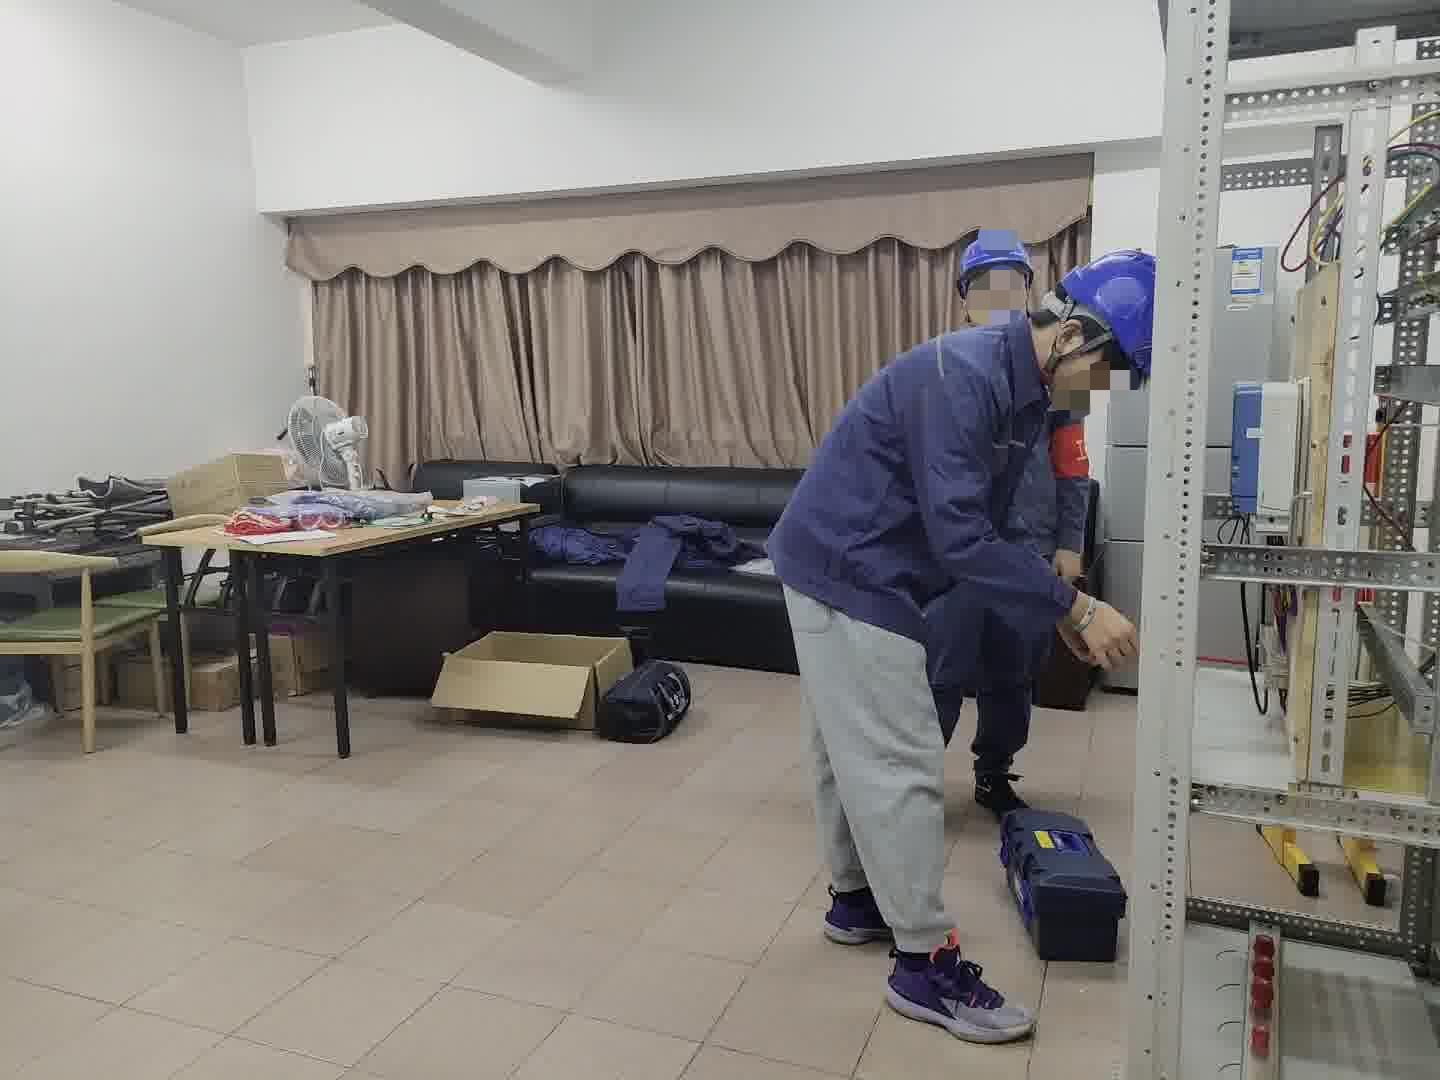halt: (1043, 251, 1158, 415), (957, 230, 1039, 320)
inear: (1047, 309, 1111, 388)
